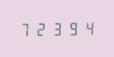four: (78, 19, 92, 36)
nine: (63, 19, 77, 36)
seven: (18, 20, 32, 37)
three: (48, 20, 62, 36)
two: (33, 20, 47, 37)
